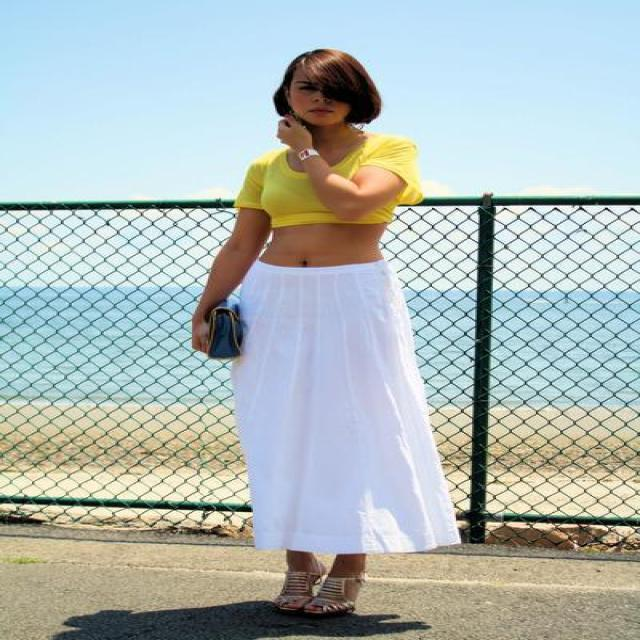bag: (193, 299, 244, 357)
shirt: (221, 123, 440, 229)
shoe: (285, 575, 360, 611)
skirt: (211, 256, 469, 553)
